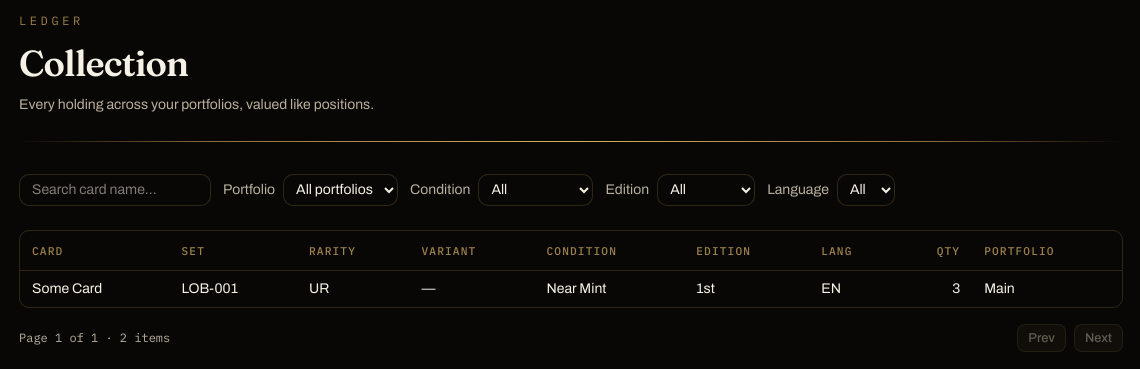
Test: CollectionPage › debounces the card-name search and resets to page 1
Expected: the text "Some Card" is shown, top-left (20, 271), bottom-right (170, 307)
Type "blossom" into the search field named "search by card name". click: coordinates (115, 190)
box: top-left (19, 174), bottom-right (211, 206)
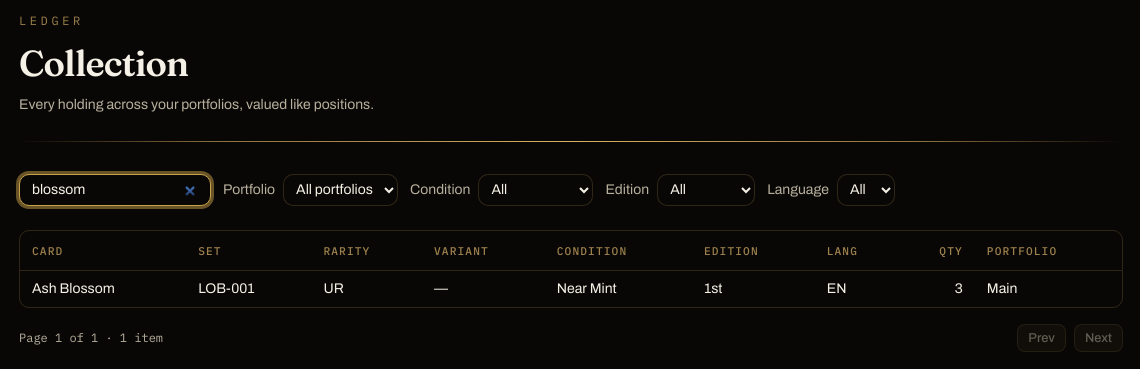
Now the text "Ash Blossom" is shown, box top-left (20, 271), bottom-right (186, 307)
